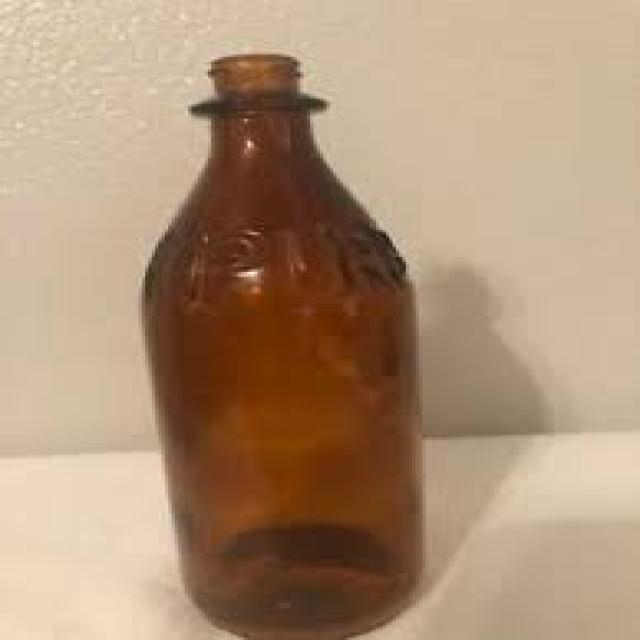glass: (136, 94, 423, 637)
